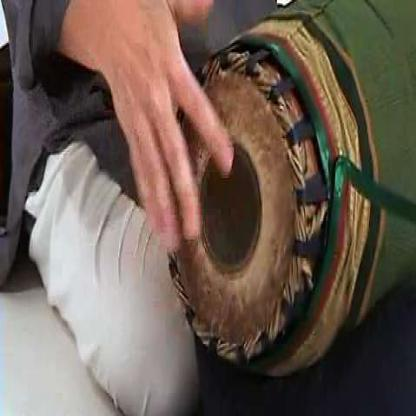Mridangam: (159, 1, 407, 387)
